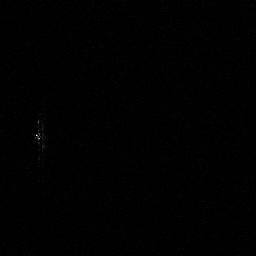ship: (33, 119, 48, 156)
